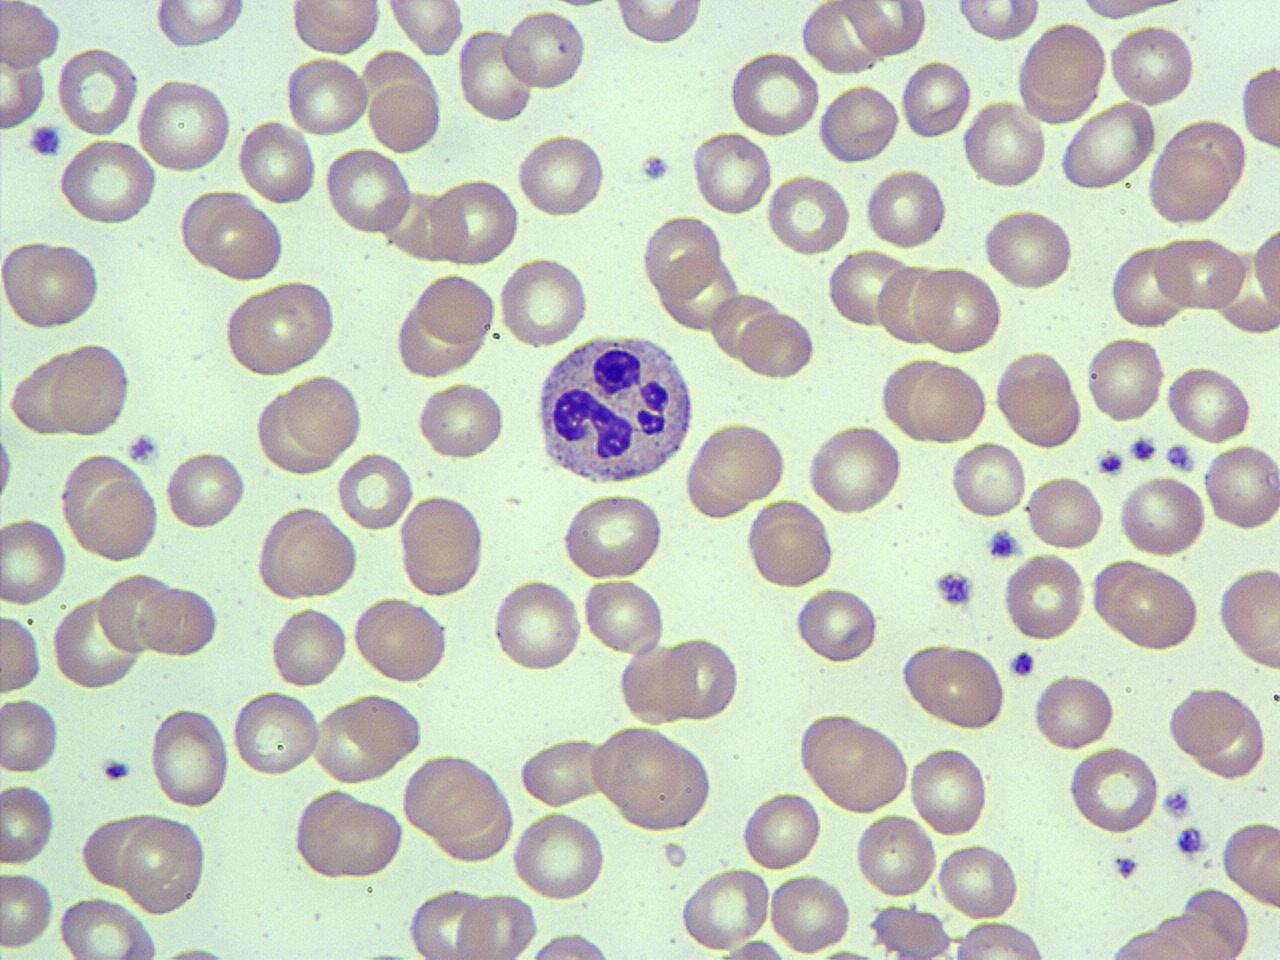Platelets: (932, 566, 977, 610), (28, 120, 65, 160), (984, 526, 1022, 562), (1159, 784, 1193, 822), (127, 432, 162, 468), (1172, 824, 1206, 856), (1163, 441, 1195, 474), (640, 153, 672, 184), (1126, 434, 1158, 464), (1093, 448, 1125, 478), (1110, 852, 1140, 882), (1008, 648, 1038, 678), (99, 756, 133, 782)
RBC: (588, 724, 715, 834), (796, 710, 912, 817), (220, 280, 339, 378), (290, 786, 406, 884), (312, 692, 428, 786), (253, 504, 361, 602), (686, 418, 790, 518), (897, 640, 1009, 732), (559, 488, 666, 582), (134, 77, 235, 175), (0, 237, 103, 334), (1016, 20, 1110, 126), (804, 422, 906, 518), (396, 492, 489, 598), (400, 751, 508, 840), (120, 812, 209, 918), (492, 577, 586, 677), (1057, 100, 1159, 192), (992, 348, 1084, 448), (57, 135, 158, 227), (350, 596, 450, 688), (497, 254, 593, 349), (510, 808, 607, 902), (1066, 743, 1164, 836), (148, 704, 232, 810), (912, 262, 1004, 358), (50, 594, 140, 692), (322, 146, 415, 238), (980, 204, 1076, 292), (426, 177, 522, 266), (46, 340, 134, 437), (1109, 563, 1201, 653), (229, 690, 322, 781), (727, 49, 820, 139), (514, 131, 609, 220), (1000, 549, 1087, 644), (744, 499, 834, 592), (1146, 133, 1234, 228), (679, 866, 773, 954), (1108, 21, 1198, 111), (959, 99, 1047, 191), (908, 741, 990, 839), (500, 6, 589, 96), (455, 25, 534, 125), (1117, 472, 1209, 558), (254, 387, 340, 479), (235, 115, 319, 208), (56, 44, 140, 138), (853, 810, 939, 899), (414, 380, 508, 462), (690, 128, 774, 219), (1085, 332, 1167, 425), (1154, 232, 1248, 313), (766, 870, 854, 956), (78, 472, 161, 562), (282, 371, 366, 461), (1164, 362, 1254, 446), (816, 80, 902, 166), (1030, 670, 1118, 754), (1202, 440, 1280, 534), (285, 53, 371, 139), (176, 187, 260, 274), (878, 354, 959, 444), (268, 602, 350, 692), (766, 171, 854, 254), (580, 576, 667, 658), (863, 166, 948, 250), (79, 810, 165, 892), (1107, 243, 1189, 330), (793, 583, 880, 666), (640, 212, 722, 299), (658, 634, 740, 722), (201, 200, 286, 282), (908, 358, 990, 445), (94, 568, 173, 656), (826, 246, 910, 330), (164, 448, 247, 532), (1217, 562, 1279, 673), (740, 789, 822, 872), (936, 840, 1021, 920), (948, 438, 1028, 522), (800, 0, 888, 77), (56, 895, 160, 960), (517, 736, 609, 809), (0, 512, 69, 609), (405, 886, 496, 959), (414, 270, 498, 349), (366, 70, 442, 155), (1167, 683, 1249, 762), (138, 580, 220, 659), (1024, 472, 1106, 552), (899, 55, 974, 142), (335, 451, 413, 531), (0, 17, 53, 135), (737, 308, 817, 381), (454, 888, 536, 960), (876, 261, 942, 348), (1221, 816, 1280, 909), (838, 0, 928, 58), (0, 694, 62, 776), (288, 1, 381, 56), (0, 781, 58, 868), (383, 0, 466, 58), (868, 904, 952, 960), (0, 866, 55, 952), (153, 0, 245, 50), (610, 0, 706, 47), (1, 1, 63, 70), (946, 920, 1052, 958), (1238, 59, 1280, 154), (0, 608, 45, 696), (954, 0, 1042, 43), (519, 930, 620, 960), (1251, 220, 1279, 328)
WBC: (530, 328, 699, 488)
